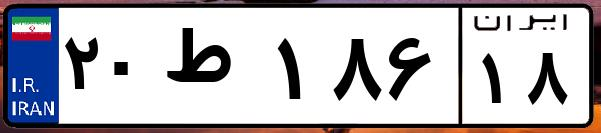0: (110, 28, 158, 98)
1: (270, 28, 330, 110), (475, 38, 525, 113)
2: (57, 26, 110, 100)
6: (385, 28, 445, 110)
8: (330, 28, 385, 110), (525, 38, 570, 115)
ط: (158, 20, 270, 120)
